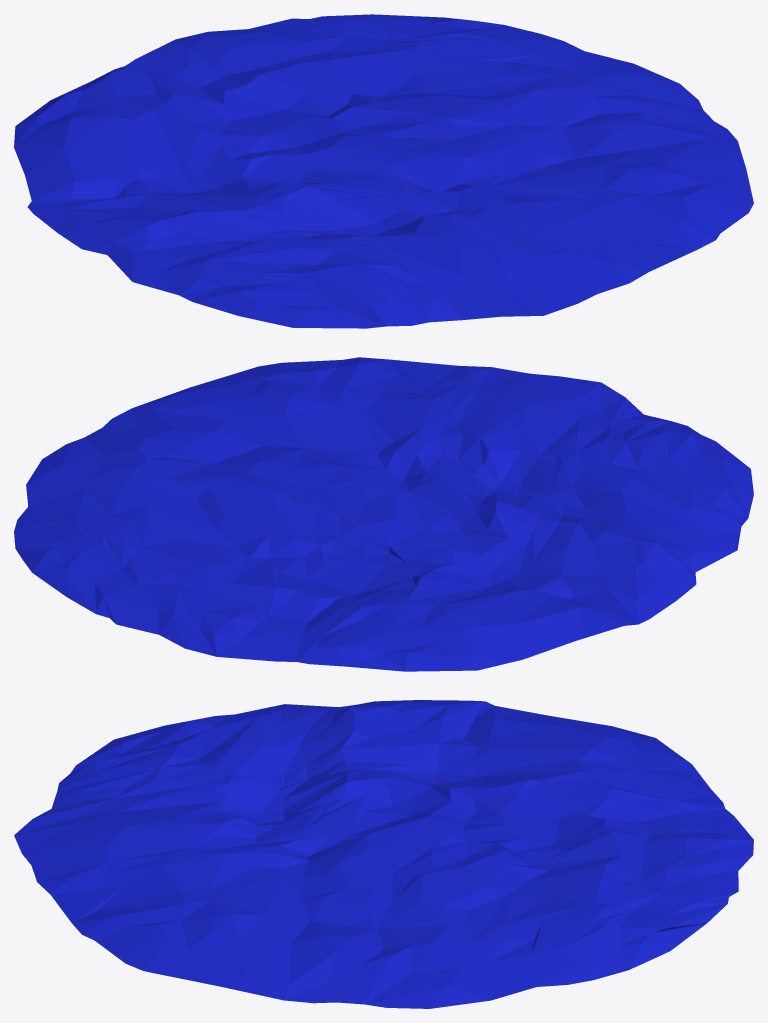
Rendered from Water-01.FBX.
3 views of the same model, one above another, from view 1: azimuth 30°, elevation 25°; view 2: azimuth 150°, elevation 25°; view 3: azimuth 270°, elevation 25° (orthographic).
Visible parts, largest first — view 1: Water-01; view 2: Water-01; view 3: Water-01.
Part boxes in pixels (<box>): Water-01: <box>14,14,753,328</box>; Water-01: <box>14,357,753,671</box>; Water-01: <box>14,700,753,1008</box>.
Size of the model in its own units: 21212 by 956 by 22011.
